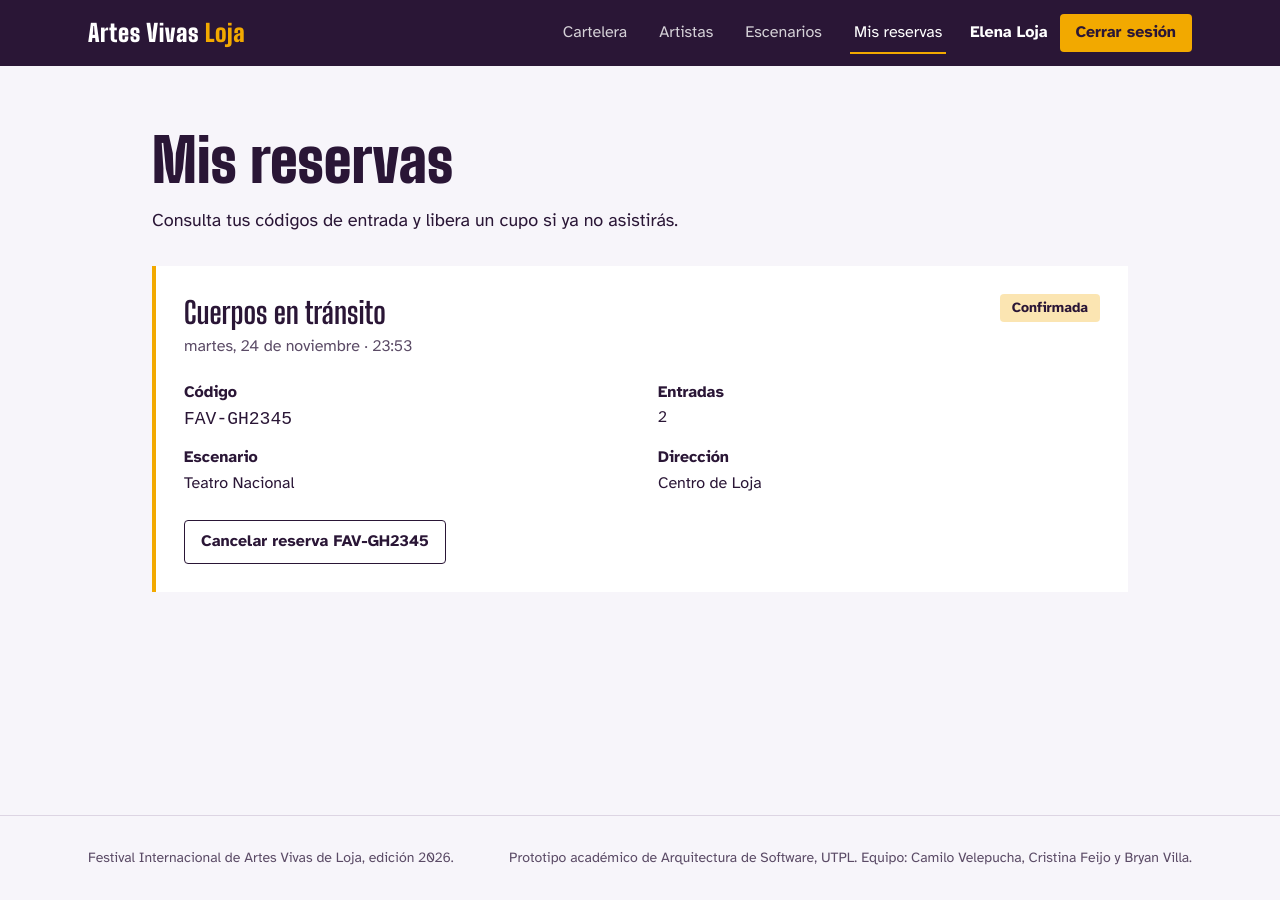
MyReservationsPage › muestra reservas propias y confirma su cancelación con diálogo accesible
Expected: the text "Cuerpos en tránsito" is shown, [184,294,412,330]
Expected: the text "FAV-GH2345" is shown, [184,409,292,429]
Click the button "Cancelar reserva FAV-GH2345". click: click(315, 542)
box: [184,520,446,564]
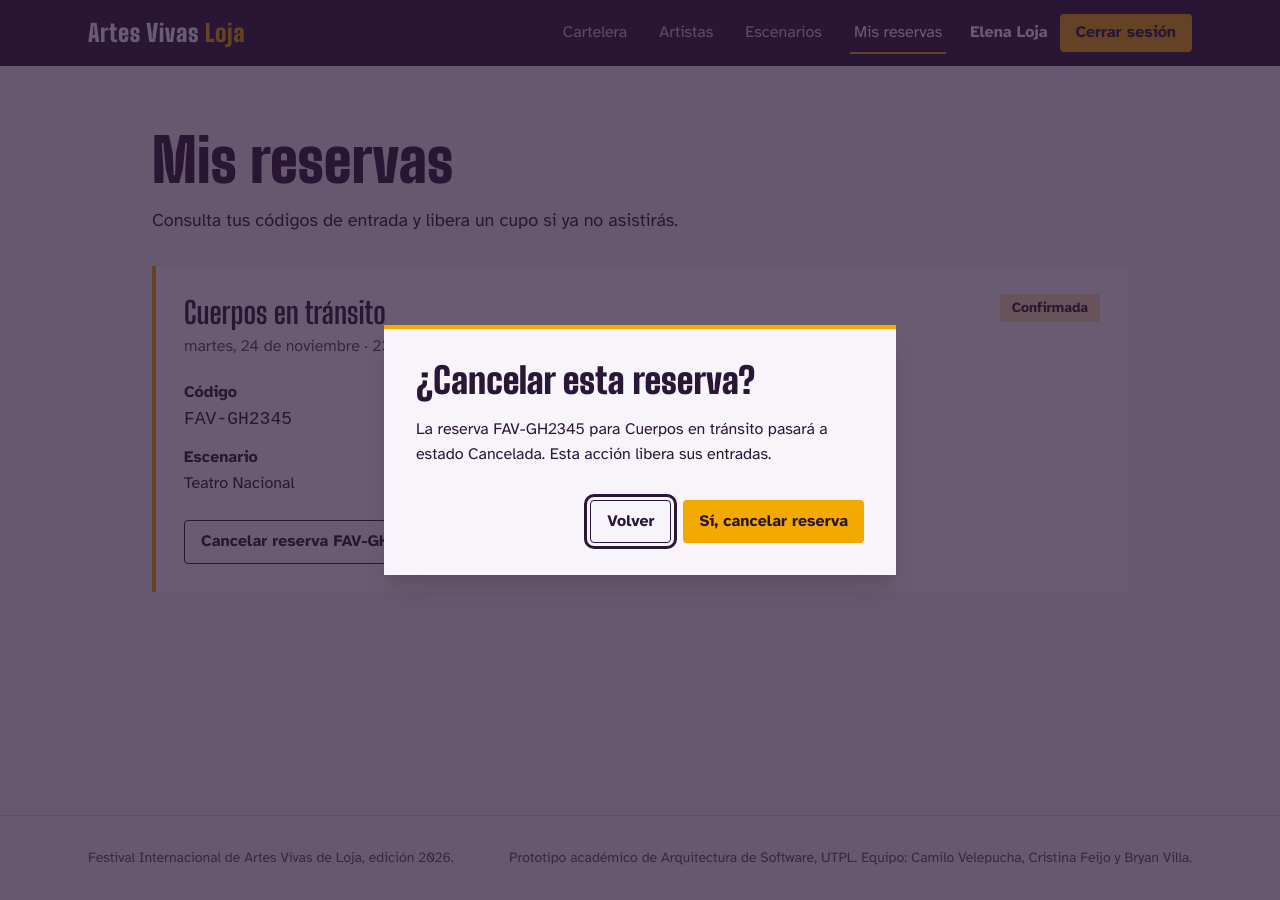
Expected: the dialog "¿Cancelar esta reserva?" is shown, [384,325,896,575]
Click the button "Sí, cancelar reserva". click: click(774, 522)
box: [684,500,864,543]
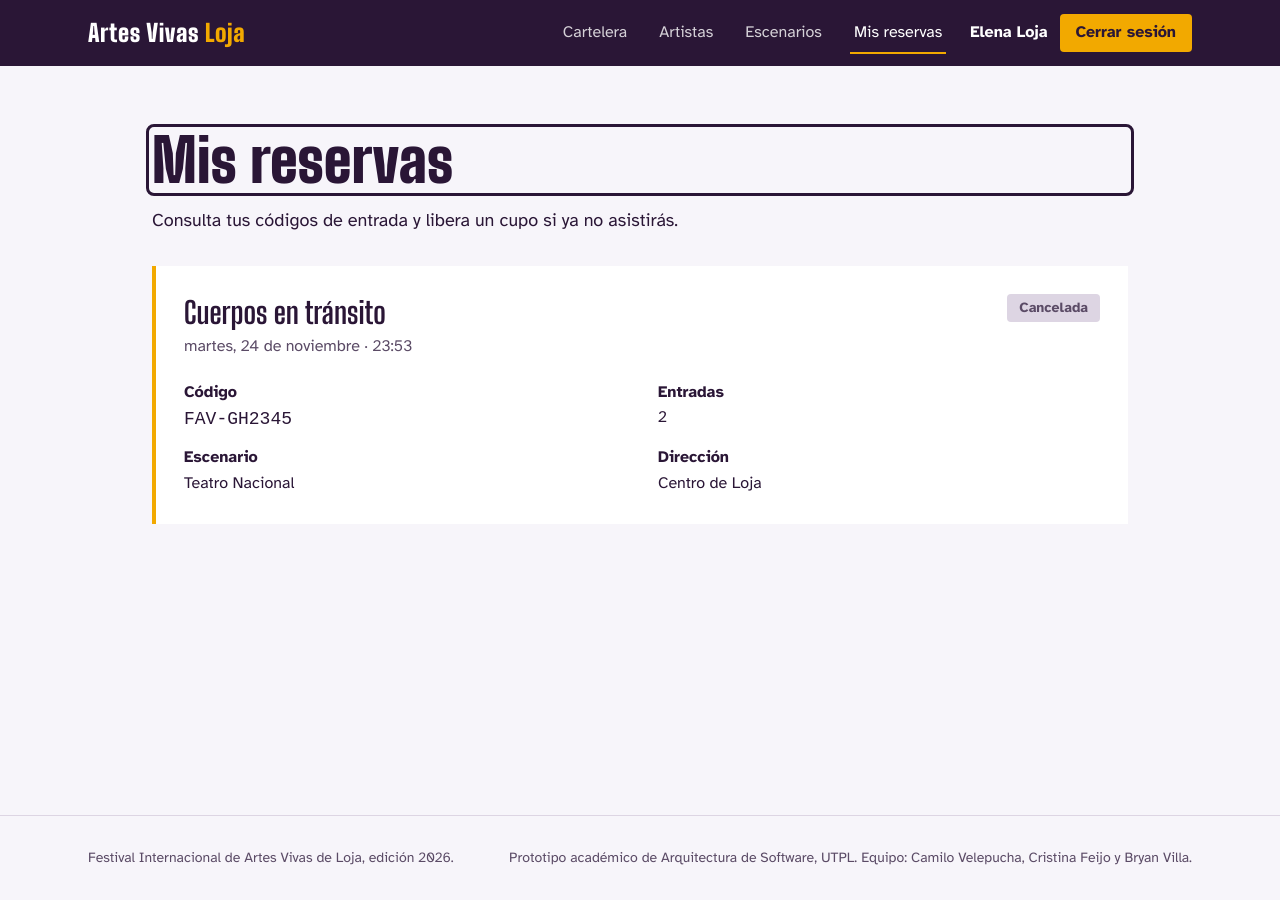
Expected: the text "Cancelada" is shown, [1007,294,1100,322]
Expected: the button "Cancelar reserva FAV-GH2345" is gone
